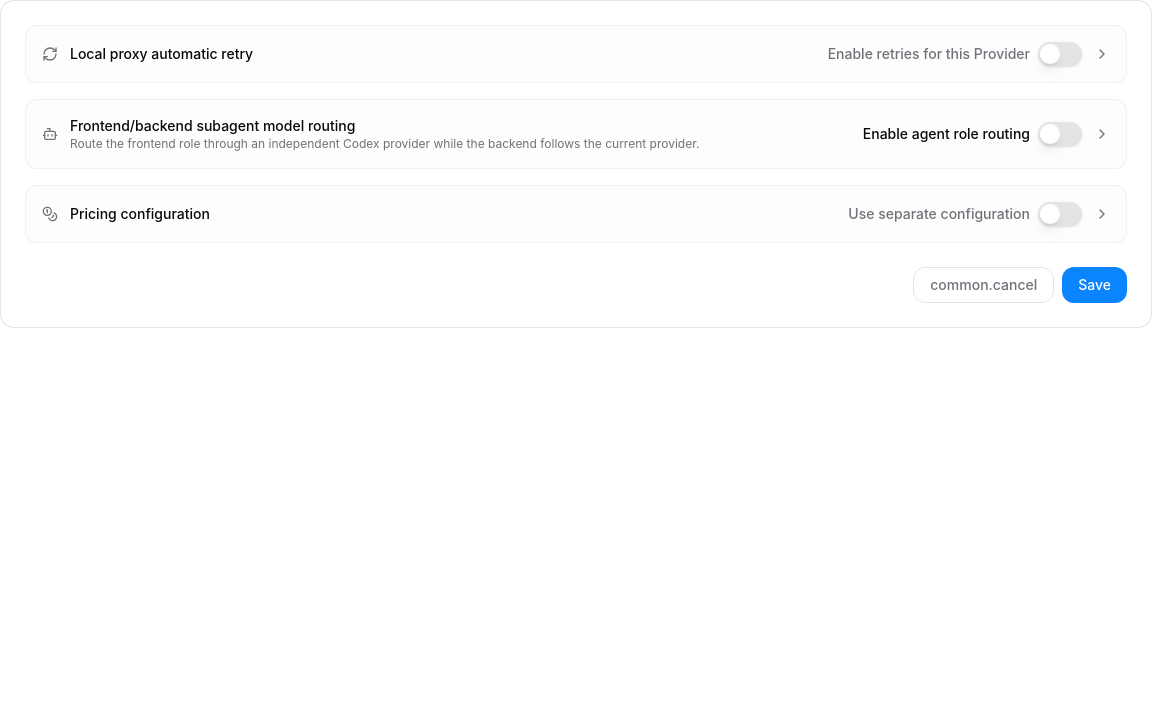
Test: ProviderForm provider retry policy › shows the default retry policy for a custom codex provider
Check: the switch named "Enable retries for this Provider" is not checked, box [1038,42,1082,66]
Check: the number field labelled "Additional retries" is not shown
Click the button "Local proxy automatic retry".
click(162, 54)  # box [42,42,1110,66]
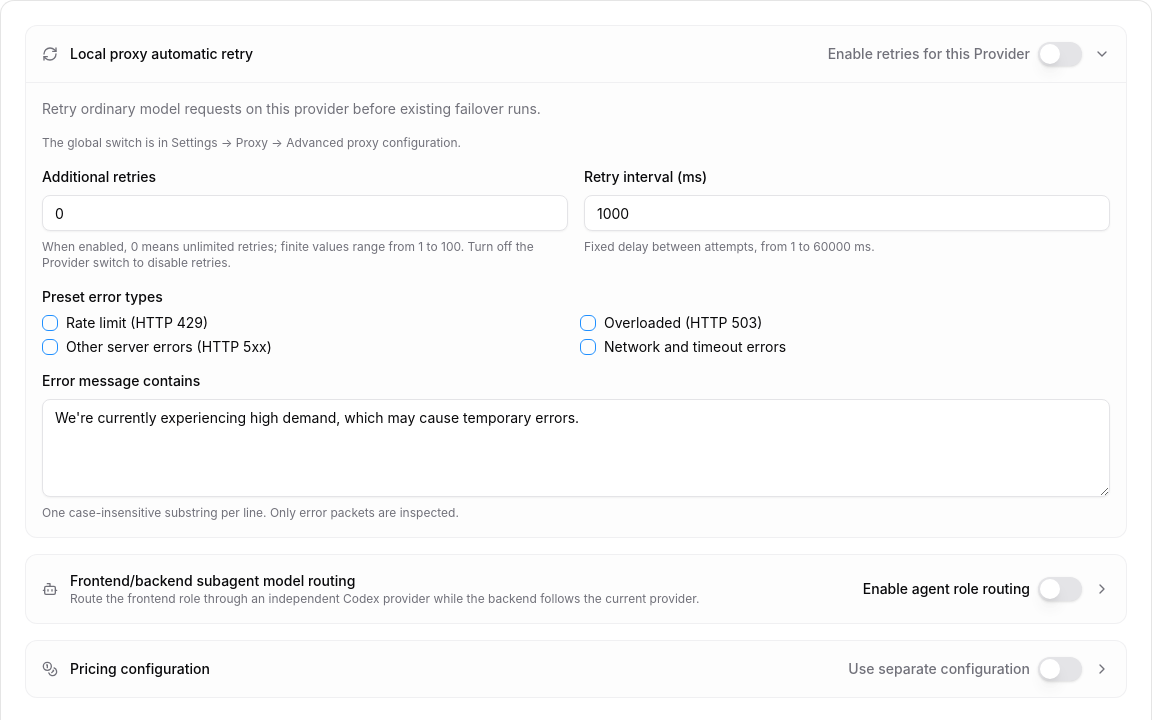
Check: the number field labelled "Additional retries" holds "0", box [42,195,568,231]
Check: the number field labelled "Retry interval (ms)" holds "1000", box [584,195,1110,231]
Check: the text box labelled "Error message contains" holds "We're currently experiencing high demand, which may cause temporary errors.", box [42,399,1110,497]
